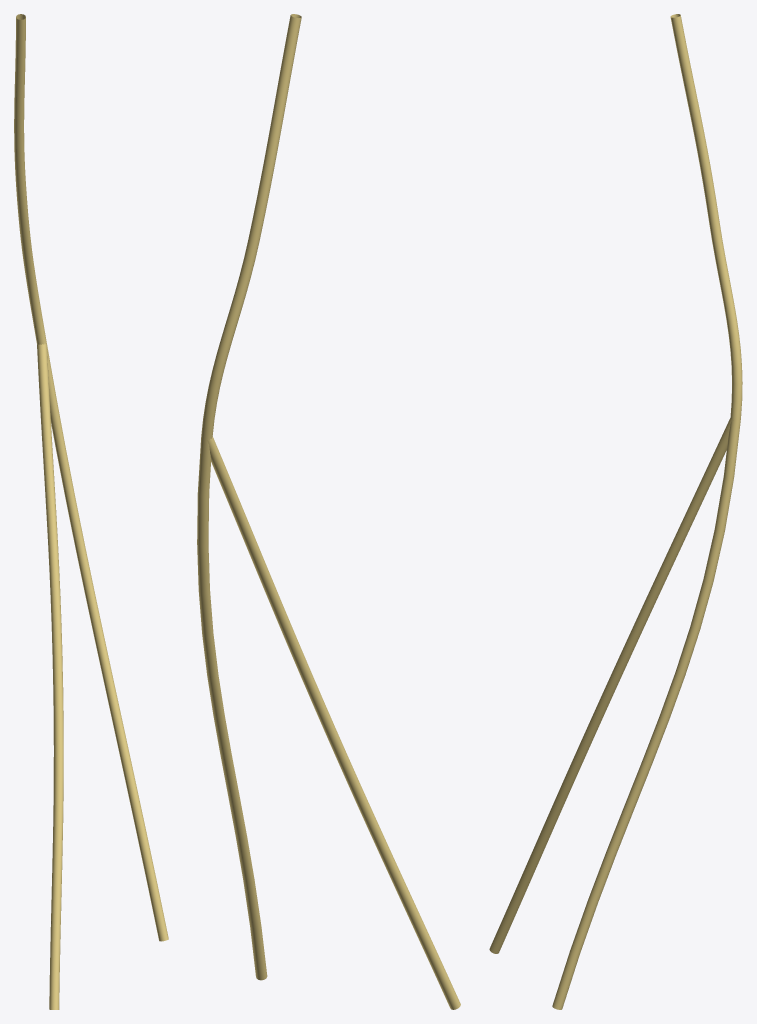
3 views of the same model, side by side, from view 1: azimuth 30°, elevation 25°; view 2: azimuth 150°, elevation 25°; view 3: azimuth 270°, elevation 25° (orthographic). The views are drawn at different scales.
Visible parts, largest first — view 1: ZA_e67133d81ba2826a; view 2: ZA_e67133d81ba2826a; view 3: ZA_e67133d81ba2826a.
Boxes of the visible parts, <box> form: ZA_e67133d81ba2826a: <box>14,14,168,1009</box>; ZA_e67133d81ba2826a: <box>197,14,460,1009</box>; ZA_e67133d81ba2826a: <box>489,14,742,1009</box>.
Size of the model in its own units: 0.0171 by 0.1014 by 0.0241.
